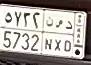2: (30, 11, 41, 52)
3: (21, 11, 31, 51)
5: (2, 12, 13, 49)
7: (12, 11, 23, 50)
D: (64, 20, 73, 53)
N: (44, 17, 54, 50)
X: (54, 19, 63, 52)
